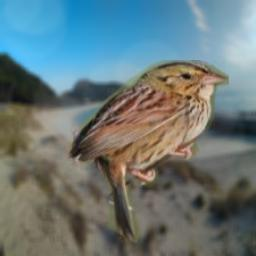Sparrow: (65, 60, 229, 246)
